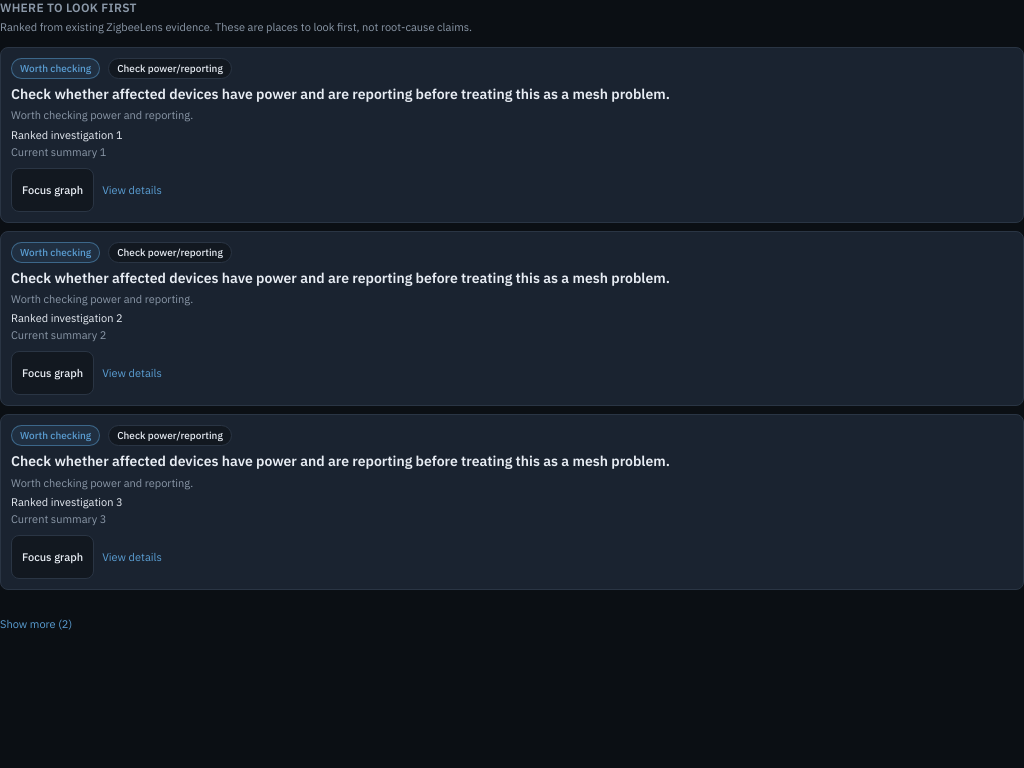
Test: InvestigationPanel accessible action names › keeps a focused fourth card visible after Show fewer and restores the initial slice on clear
The width and height of the screenshot is (1024, 768).
Click the button "Show more (2)": (36, 624) left=0, top=602, right=72, bottom=646
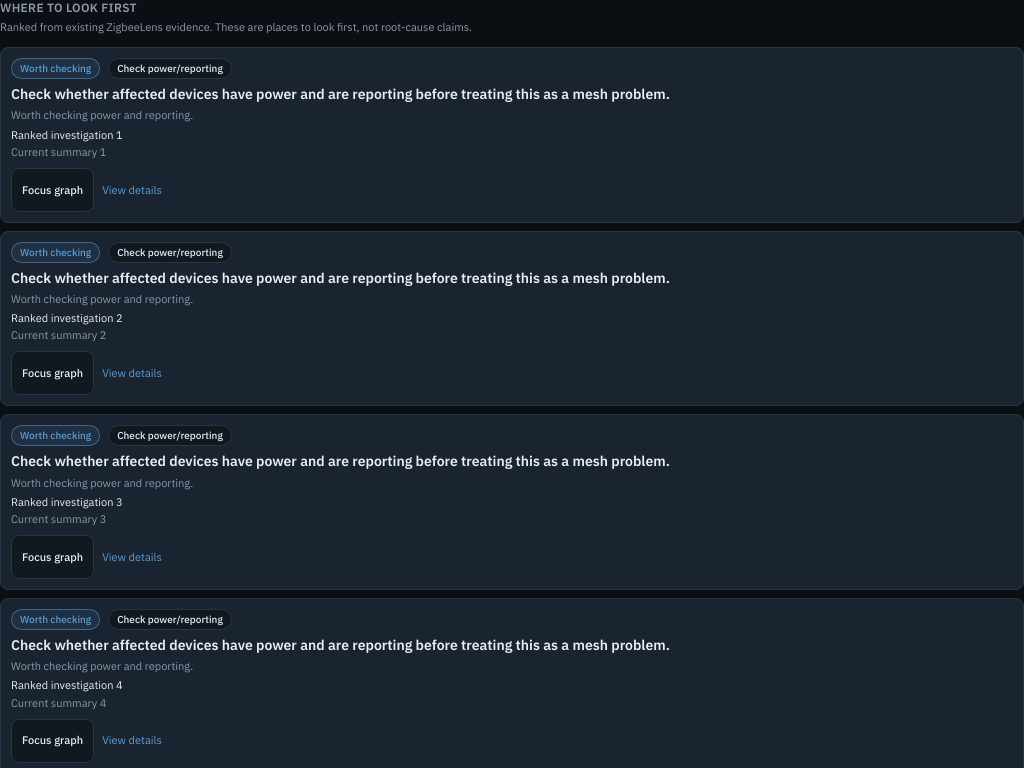
Click the button with aria-label "Focus graph:": (53, 741) left=11, top=719, right=94, bottom=763
(page scrolled)
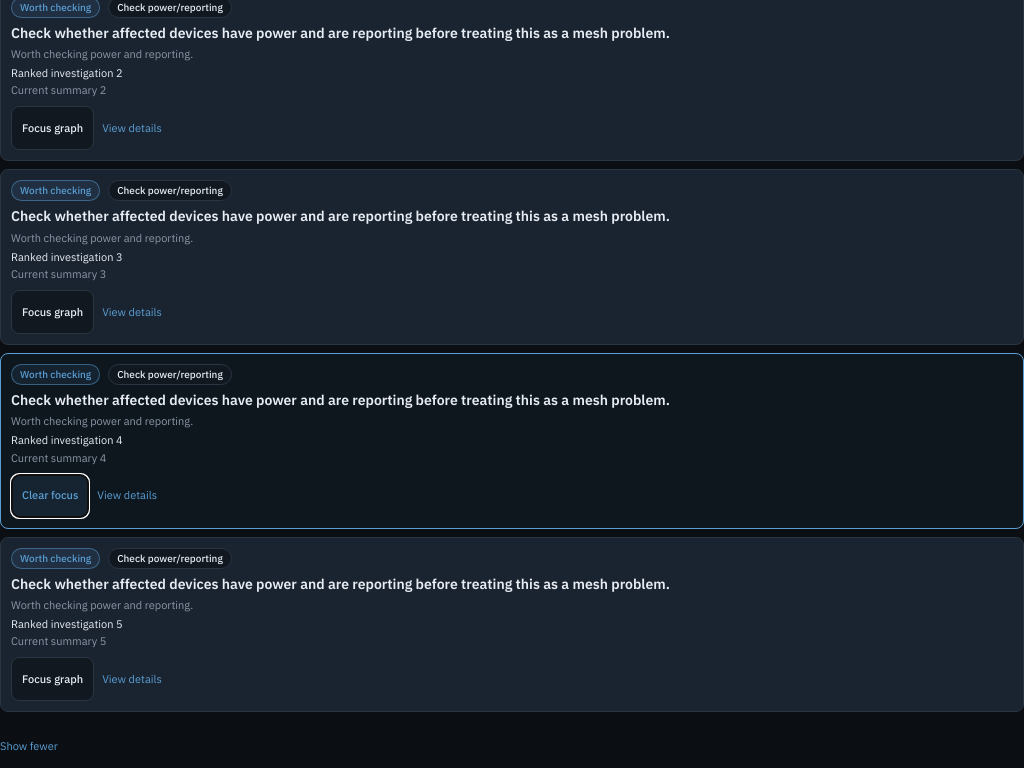
Click the button "Show fewer": (29, 746) left=0, top=724, right=58, bottom=767
(page scrolled)
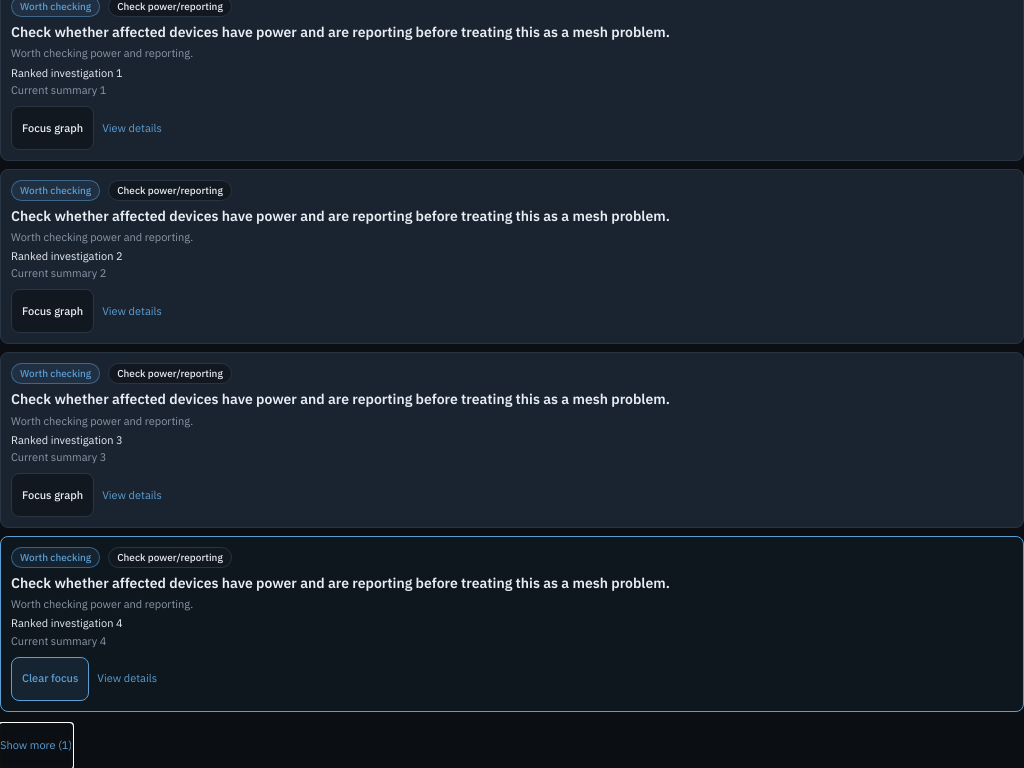
Now the button with aria-label "Clear focus:" is shown
Now the button "Show more (1)" is shown, box left=0, top=724, right=72, bottom=767
Click the button with aria-label "Clear focus:": (50, 679) left=11, top=657, right=89, bottom=701
(page scrolled)
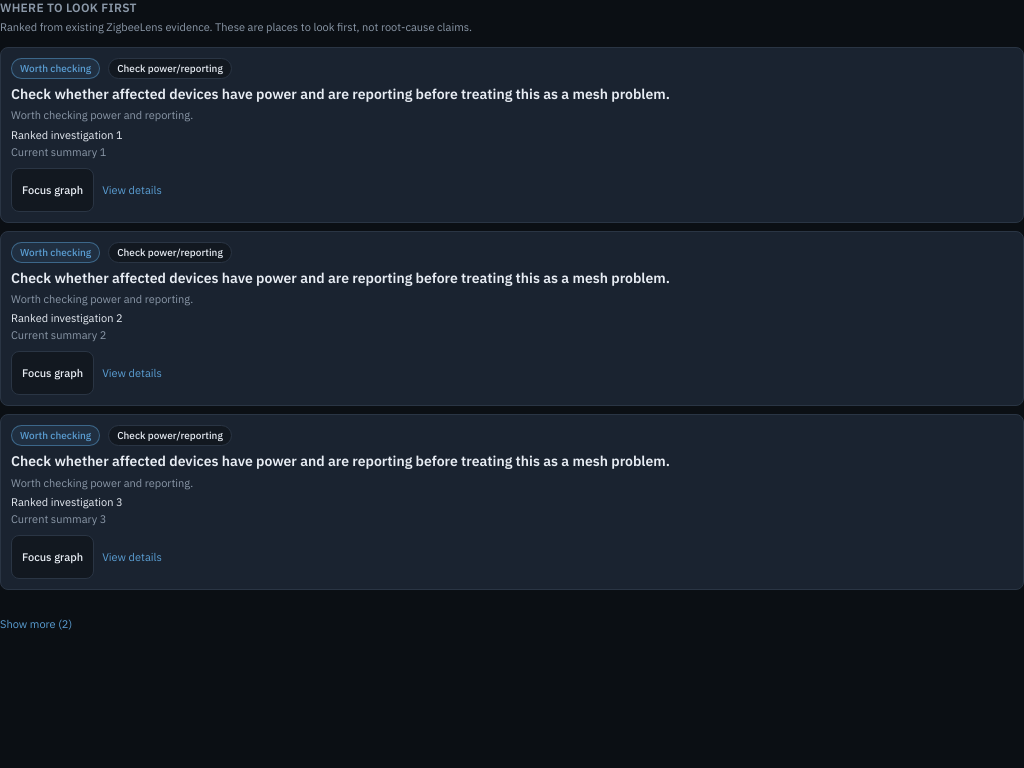
Now the text "Ranked investigation 4" is gone
Now the button "Show more (2)" is shown, box left=0, top=602, right=72, bottom=646
